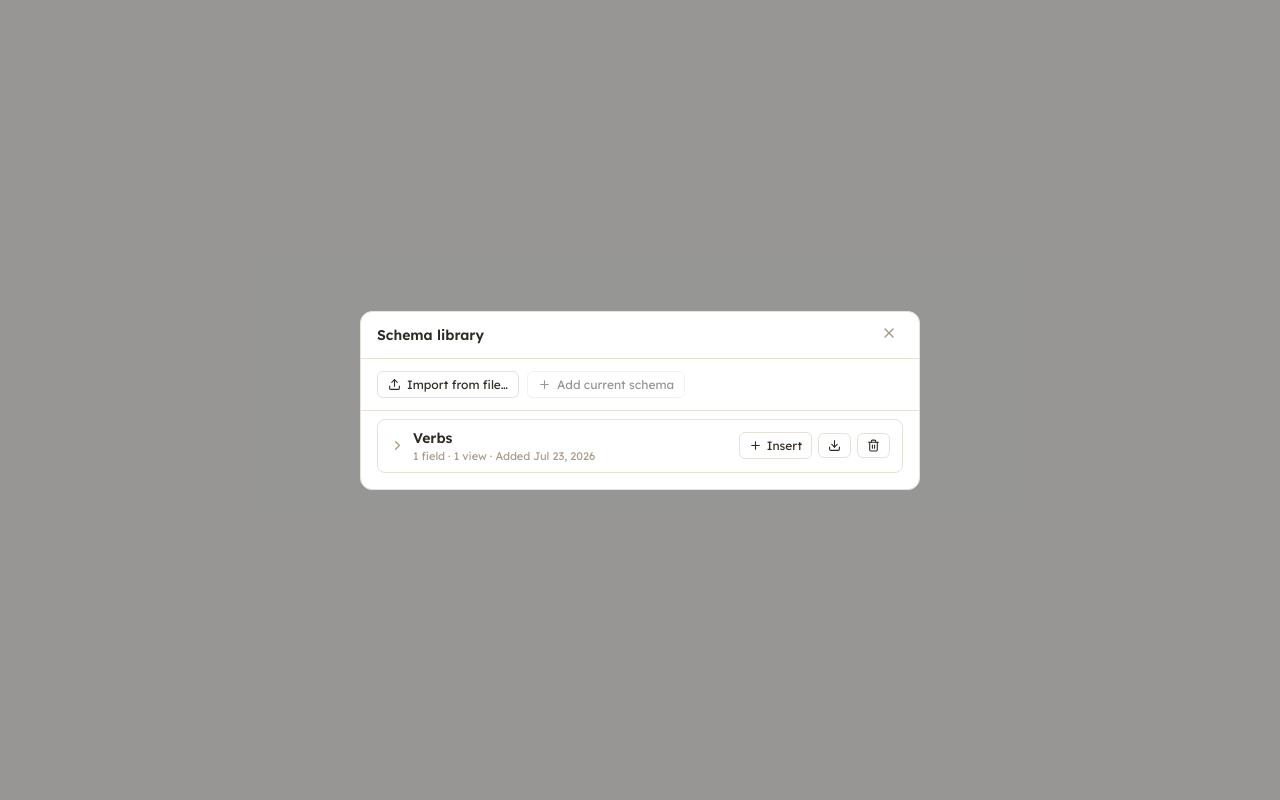
it: SchemaLibraryModal › opening an entry shows its fields and a read-only views summary
Click the button with aria-label "toggle details".
click(559, 446)  # box [390, 428, 729, 462]
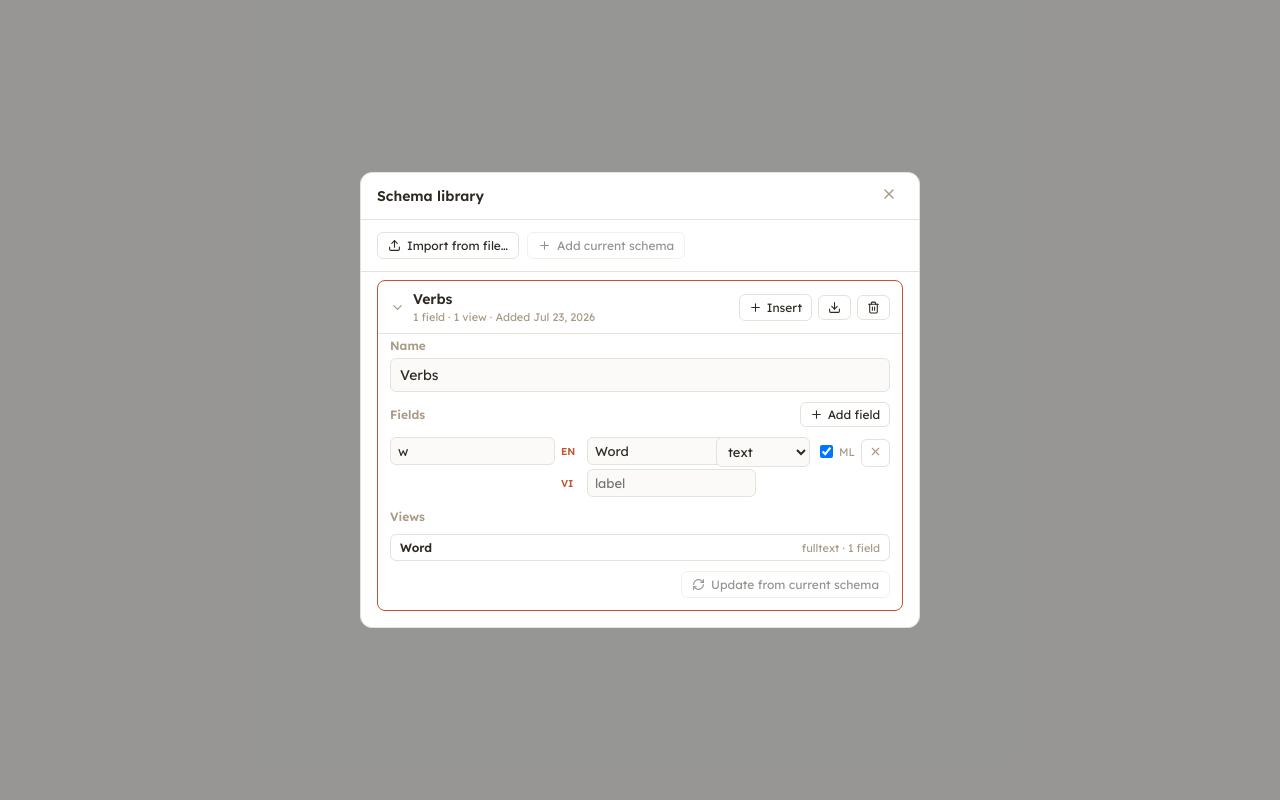
Expected: the field named "field key" holds "w", [390, 437, 555, 465]
Expected: the field named "entry name" holds "Verbs", [390, 358, 890, 392]
Expected: the text "fulltext · 1 field" is shown, [802, 540, 880, 554]
